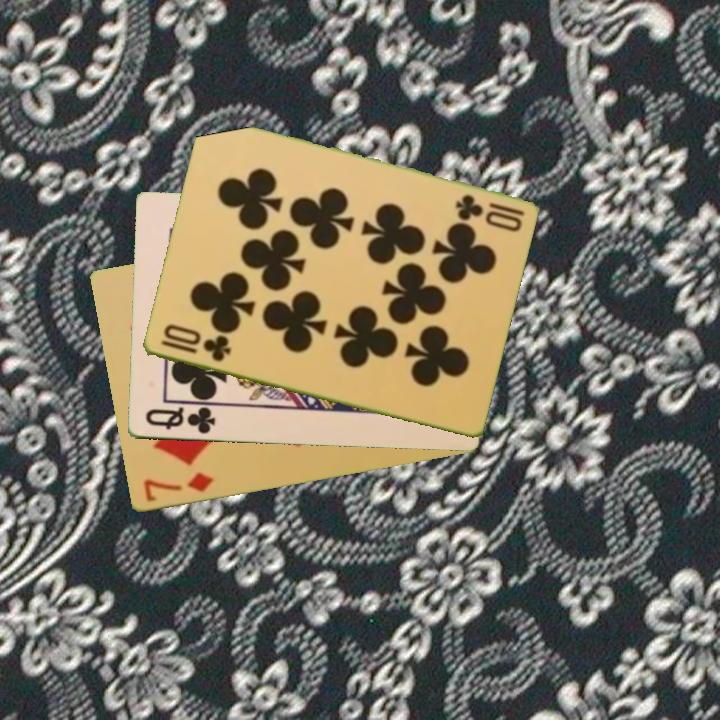10c: (157, 321, 233, 365), (451, 191, 527, 233)
7d: (140, 469, 216, 505)
Qc: (141, 404, 217, 437)
